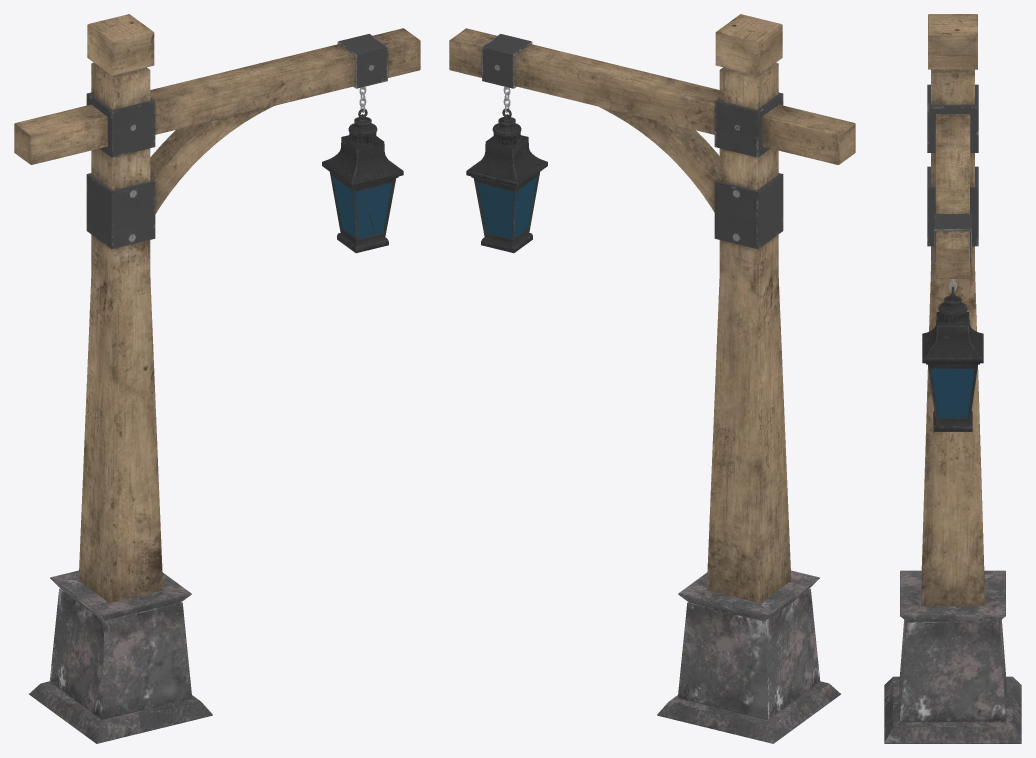
File: Lantern.glb
3 renders of one model, left to right at view 1: azimuth 30°, elevation 25°; view 2: azimuth 150°, elevation 25°; view 3: azimuth 270°, elevation 25°, orthographic.
Visible parts, largest first — view 1: LanternPole_Body, LanternPole_Lantern; view 2: LanternPole_Body, LanternPole_Lantern; view 3: LanternPole_Body, LanternPole_Lantern.
Part boxes in pixels (box(x1,y1,x2,y2)): LanternPole_Body: box(14, 14, 420, 743); LanternPole_Lantern: box(322, 108, 403, 253); LanternPole_Body: box(449, 14, 855, 743); LanternPole_Lantern: box(466, 108, 547, 253); LanternPole_Body: box(884, 14, 1021, 743); LanternPole_Lantern: box(922, 287, 983, 431).
Size of the model in its own units: 15.49 by 25.66 by 4.63.
1 material, 1 textured.
